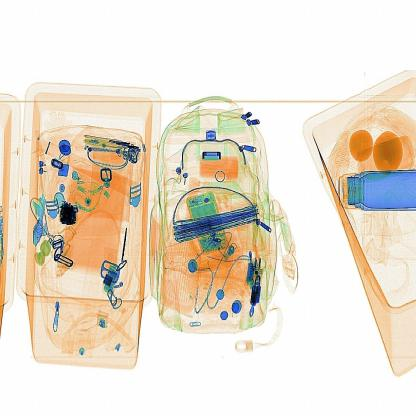scissors: (56, 197, 88, 236)
